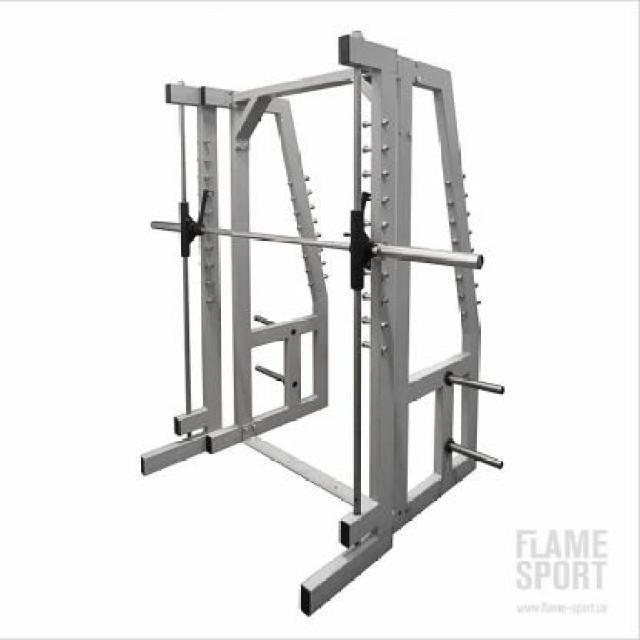smith machine: (139, 29, 506, 618)
